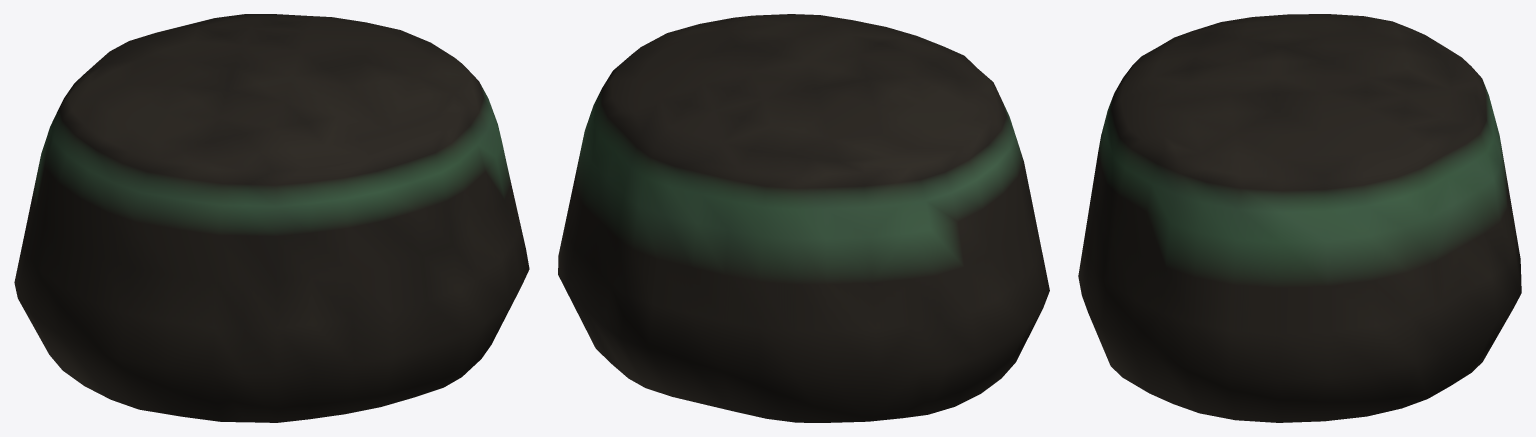
File: headStone.glb
3 views of the same model, side by side, from view 1: azimuth 30°, elevation 25°; view 2: azimuth 150°, elevation 25°; view 3: azimuth 270°, elevation 25° (orthographic). The views are drawn at different scales.
Visible parts, largest first — view 1: GreenHillMedium.001; view 2: GreenHillMedium.001; view 3: GreenHillMedium.001.
Boxes of the visible parts, x1,y1,x2,y2 form: GreenHillMedium.001: (14,14,529,422); GreenHillMedium.001: (558,14,1049,422); GreenHillMedium.001: (1078,14,1521,422).
Bounding box in the file's own units: 30.63 × 17.4 × 27.13.
